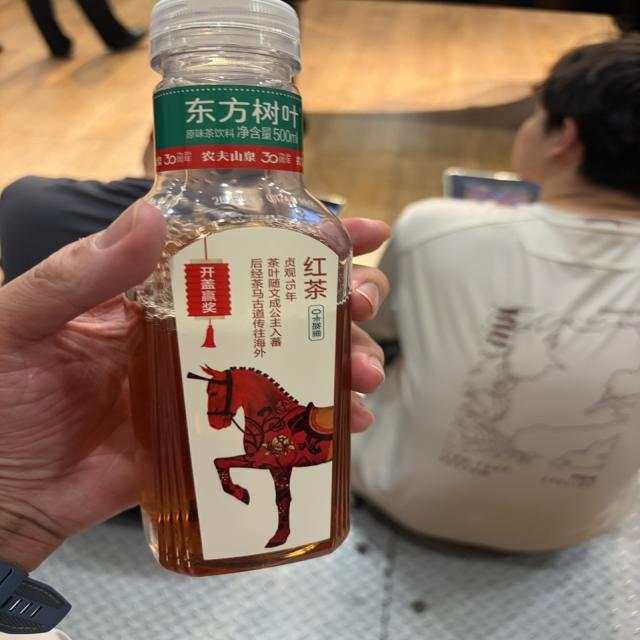high: (128, 0, 352, 576)
